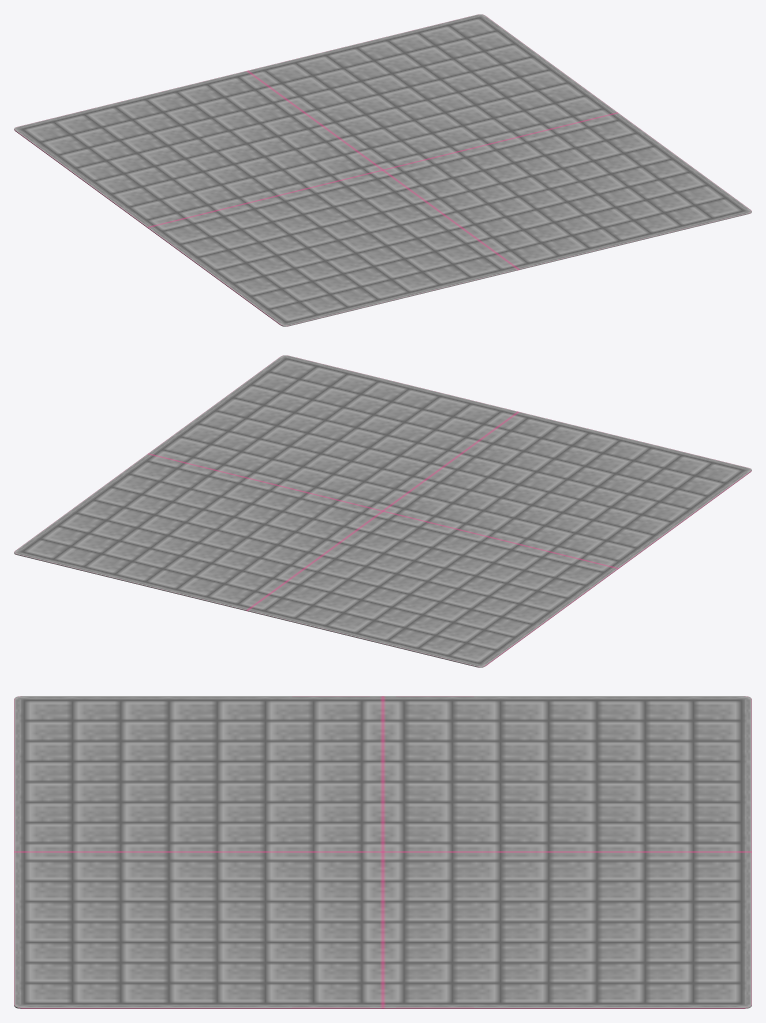
File: Manzana.fbx
3 renders of one model, top to bottom at view 1: azimuth 30°, elevation 25°; view 2: azimuth 150°, elevation 25°; view 3: azimuth 270°, elevation 25°, orthographic. The views are drawn at different scales.
Parts seen in each view (by area): view 1: Vereda; view 2: Vereda; view 3: Vereda.
Part boxes in pixels (bbox=[...]): Vereda: bbox=[14, 14, 751, 326]; Vereda: bbox=[14, 355, 751, 667]; Vereda: bbox=[14, 696, 751, 1008].
Size of the model in its own units: 10000 by 15 by 10000.
